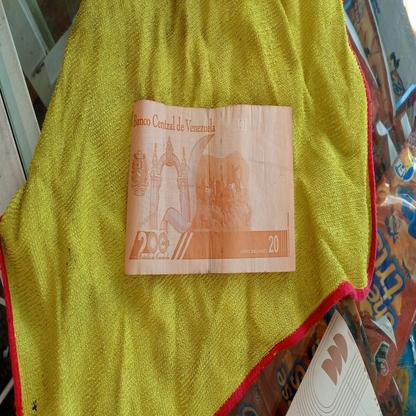twenty-back-vef: (123, 99, 296, 276)
